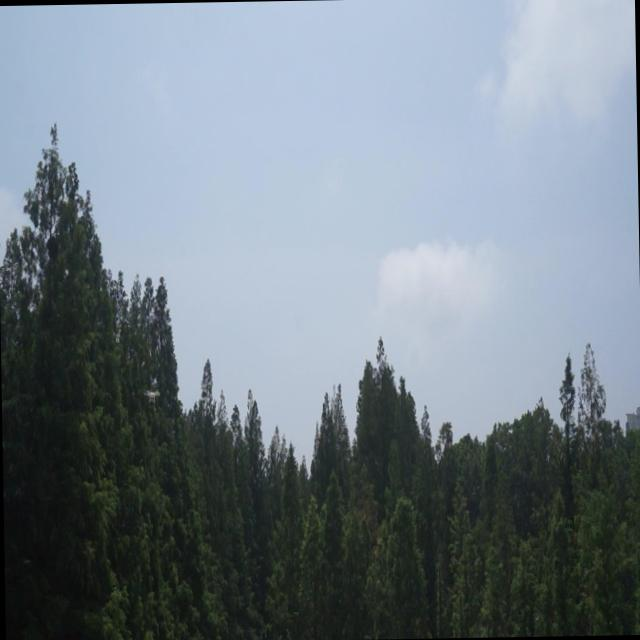drone: (144, 386, 162, 406)
